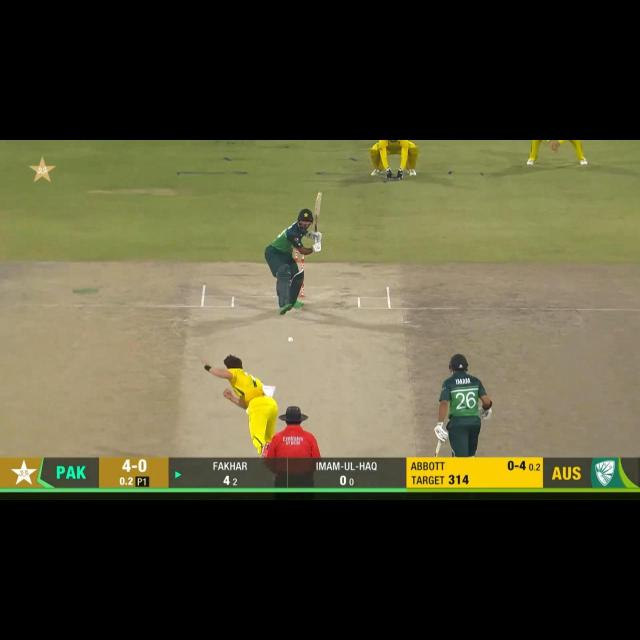bat: (310, 192, 324, 236), (433, 440, 441, 458)
toe: (314, 192, 324, 199)
